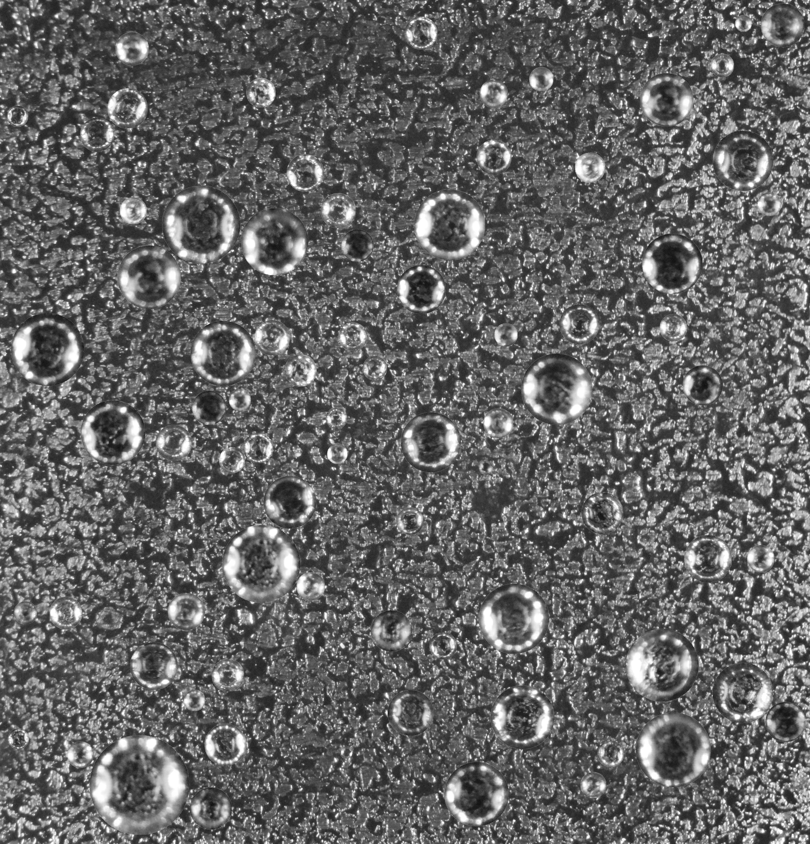Bubble: (89, 735, 189, 834), (162, 185, 240, 263), (222, 525, 300, 602), (636, 712, 710, 787), (11, 313, 83, 385), (626, 629, 698, 701), (414, 189, 485, 260), (521, 353, 592, 424), (479, 583, 549, 653), (241, 208, 308, 275), (190, 320, 255, 385), (80, 400, 145, 464), (490, 685, 554, 749), (444, 762, 508, 826), (117, 245, 180, 308), (712, 662, 773, 723), (642, 233, 702, 293), (713, 130, 773, 190), (400, 412, 460, 472), (640, 73, 693, 126), (263, 476, 316, 528), (397, 265, 445, 313), (684, 535, 731, 582), (130, 642, 177, 689), (387, 690, 433, 735), (761, 3, 804, 46), (581, 492, 623, 534), (189, 787, 231, 829), (370, 610, 412, 651), (204, 724, 246, 765), (682, 365, 722, 405), (765, 702, 805, 742), (559, 304, 599, 344), (107, 88, 147, 128), (286, 154, 323, 191), (167, 593, 204, 630), (155, 424, 191, 460), (476, 139, 511, 174), (320, 193, 355, 228), (254, 320, 289, 355), (80, 117, 114, 151), (192, 390, 226, 424), (49, 596, 82, 629), (404, 16, 437, 49), (115, 32, 148, 65), (211, 659, 244, 691), (341, 229, 373, 261), (284, 354, 316, 386), (243, 433, 273, 463), (575, 152, 605, 182), (483, 408, 513, 438), (246, 78, 275, 107), (338, 322, 367, 351), (479, 79, 507, 107), (296, 572, 324, 600), (659, 314, 687, 341), (429, 632, 456, 659), (747, 545, 774, 572), (396, 507, 423, 534), (119, 197, 146, 224), (597, 740, 623, 767), (67, 741, 93, 767), (580, 772, 606, 798), (219, 447, 244, 473), (362, 356, 387, 380), (529, 67, 553, 91), (710, 53, 734, 77), (757, 192, 781, 215), (494, 323, 517, 346), (13, 601, 36, 624), (183, 689, 205, 711), (228, 388, 250, 410), (325, 407, 347, 428), (7, 105, 28, 126), (7, 728, 28, 749), (327, 443, 347, 463), (735, 15, 751, 31), (479, 460, 492, 474), (767, 115, 780, 128), (340, 746, 352, 758)
